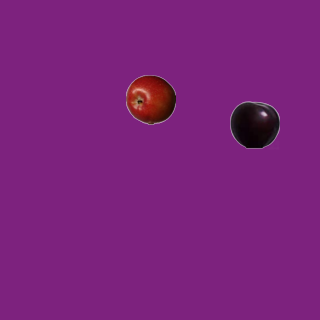Apple Braeburn: (125, 74, 175, 124)
Cherry Wax Black: (229, 99, 279, 149)
